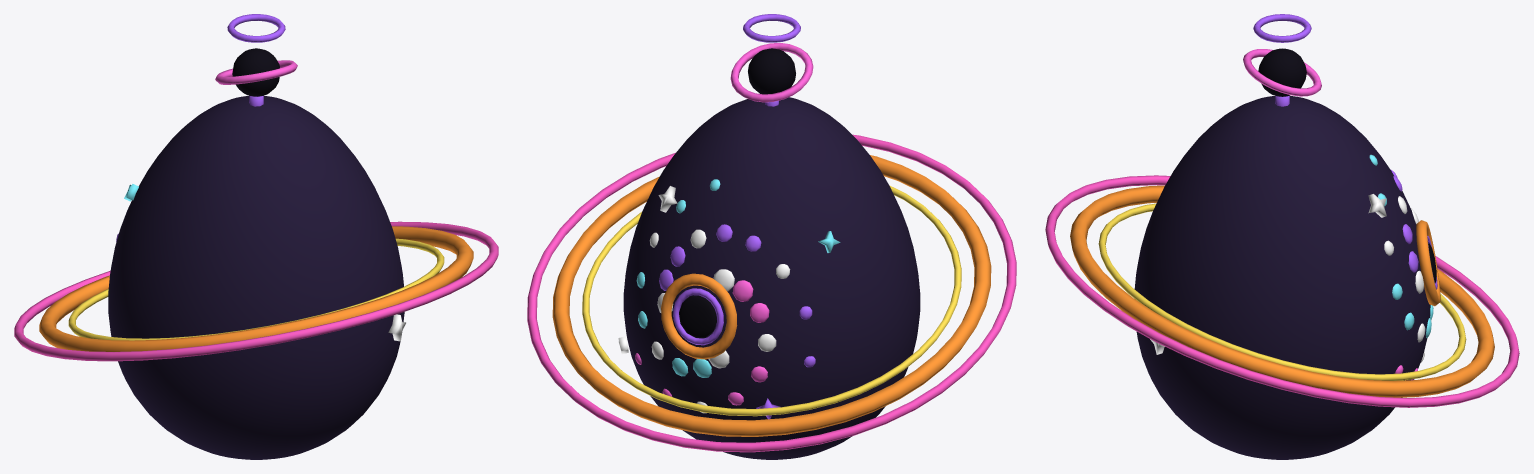
File: egg_blackhole.fbx
3 renders of one model, left to right at view 1: azimuth 30°, elevation 25°; view 2: azimuth 150°, elevation 25°; view 3: azimuth 270°, elevation 25°, orthographic.
Visible parts, largest first — view 1: egg_blackhole; view 2: egg_blackhole; view 3: egg_blackhole.
Part boxes in pixels (x1=…): egg_blackhole: x1=14, y1=14, x2=498, y2=459; egg_blackhole: x1=527, y1=14, x2=1016, y2=459; egg_blackhole: x1=1045, y1=14, x2=1519, y2=459.
Size of the model in its own units: 8.07 by 7.61 by 7.77.
1 material, 1 textured.
